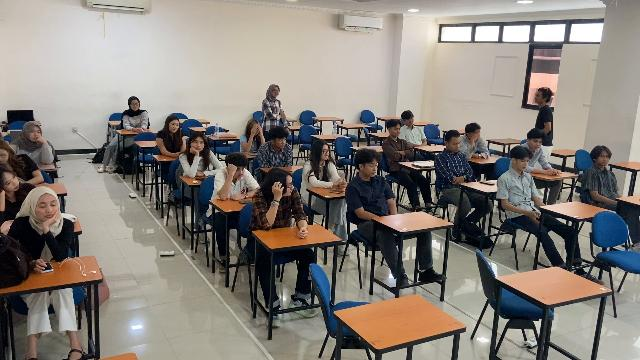bosan: (38, 196, 56, 221), (4, 172, 19, 192), (284, 174, 294, 196), (365, 161, 378, 176), (30, 127, 42, 142), (193, 137, 205, 152), (233, 165, 245, 179), (517, 157, 529, 170), (277, 135, 287, 149), (531, 138, 542, 150), (450, 139, 460, 152), (600, 153, 609, 167), (321, 145, 329, 160), (169, 120, 179, 132), (392, 125, 400, 137), (406, 116, 414, 125)
